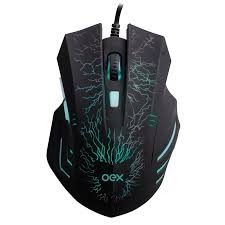mouse: (43, 15, 186, 221)
